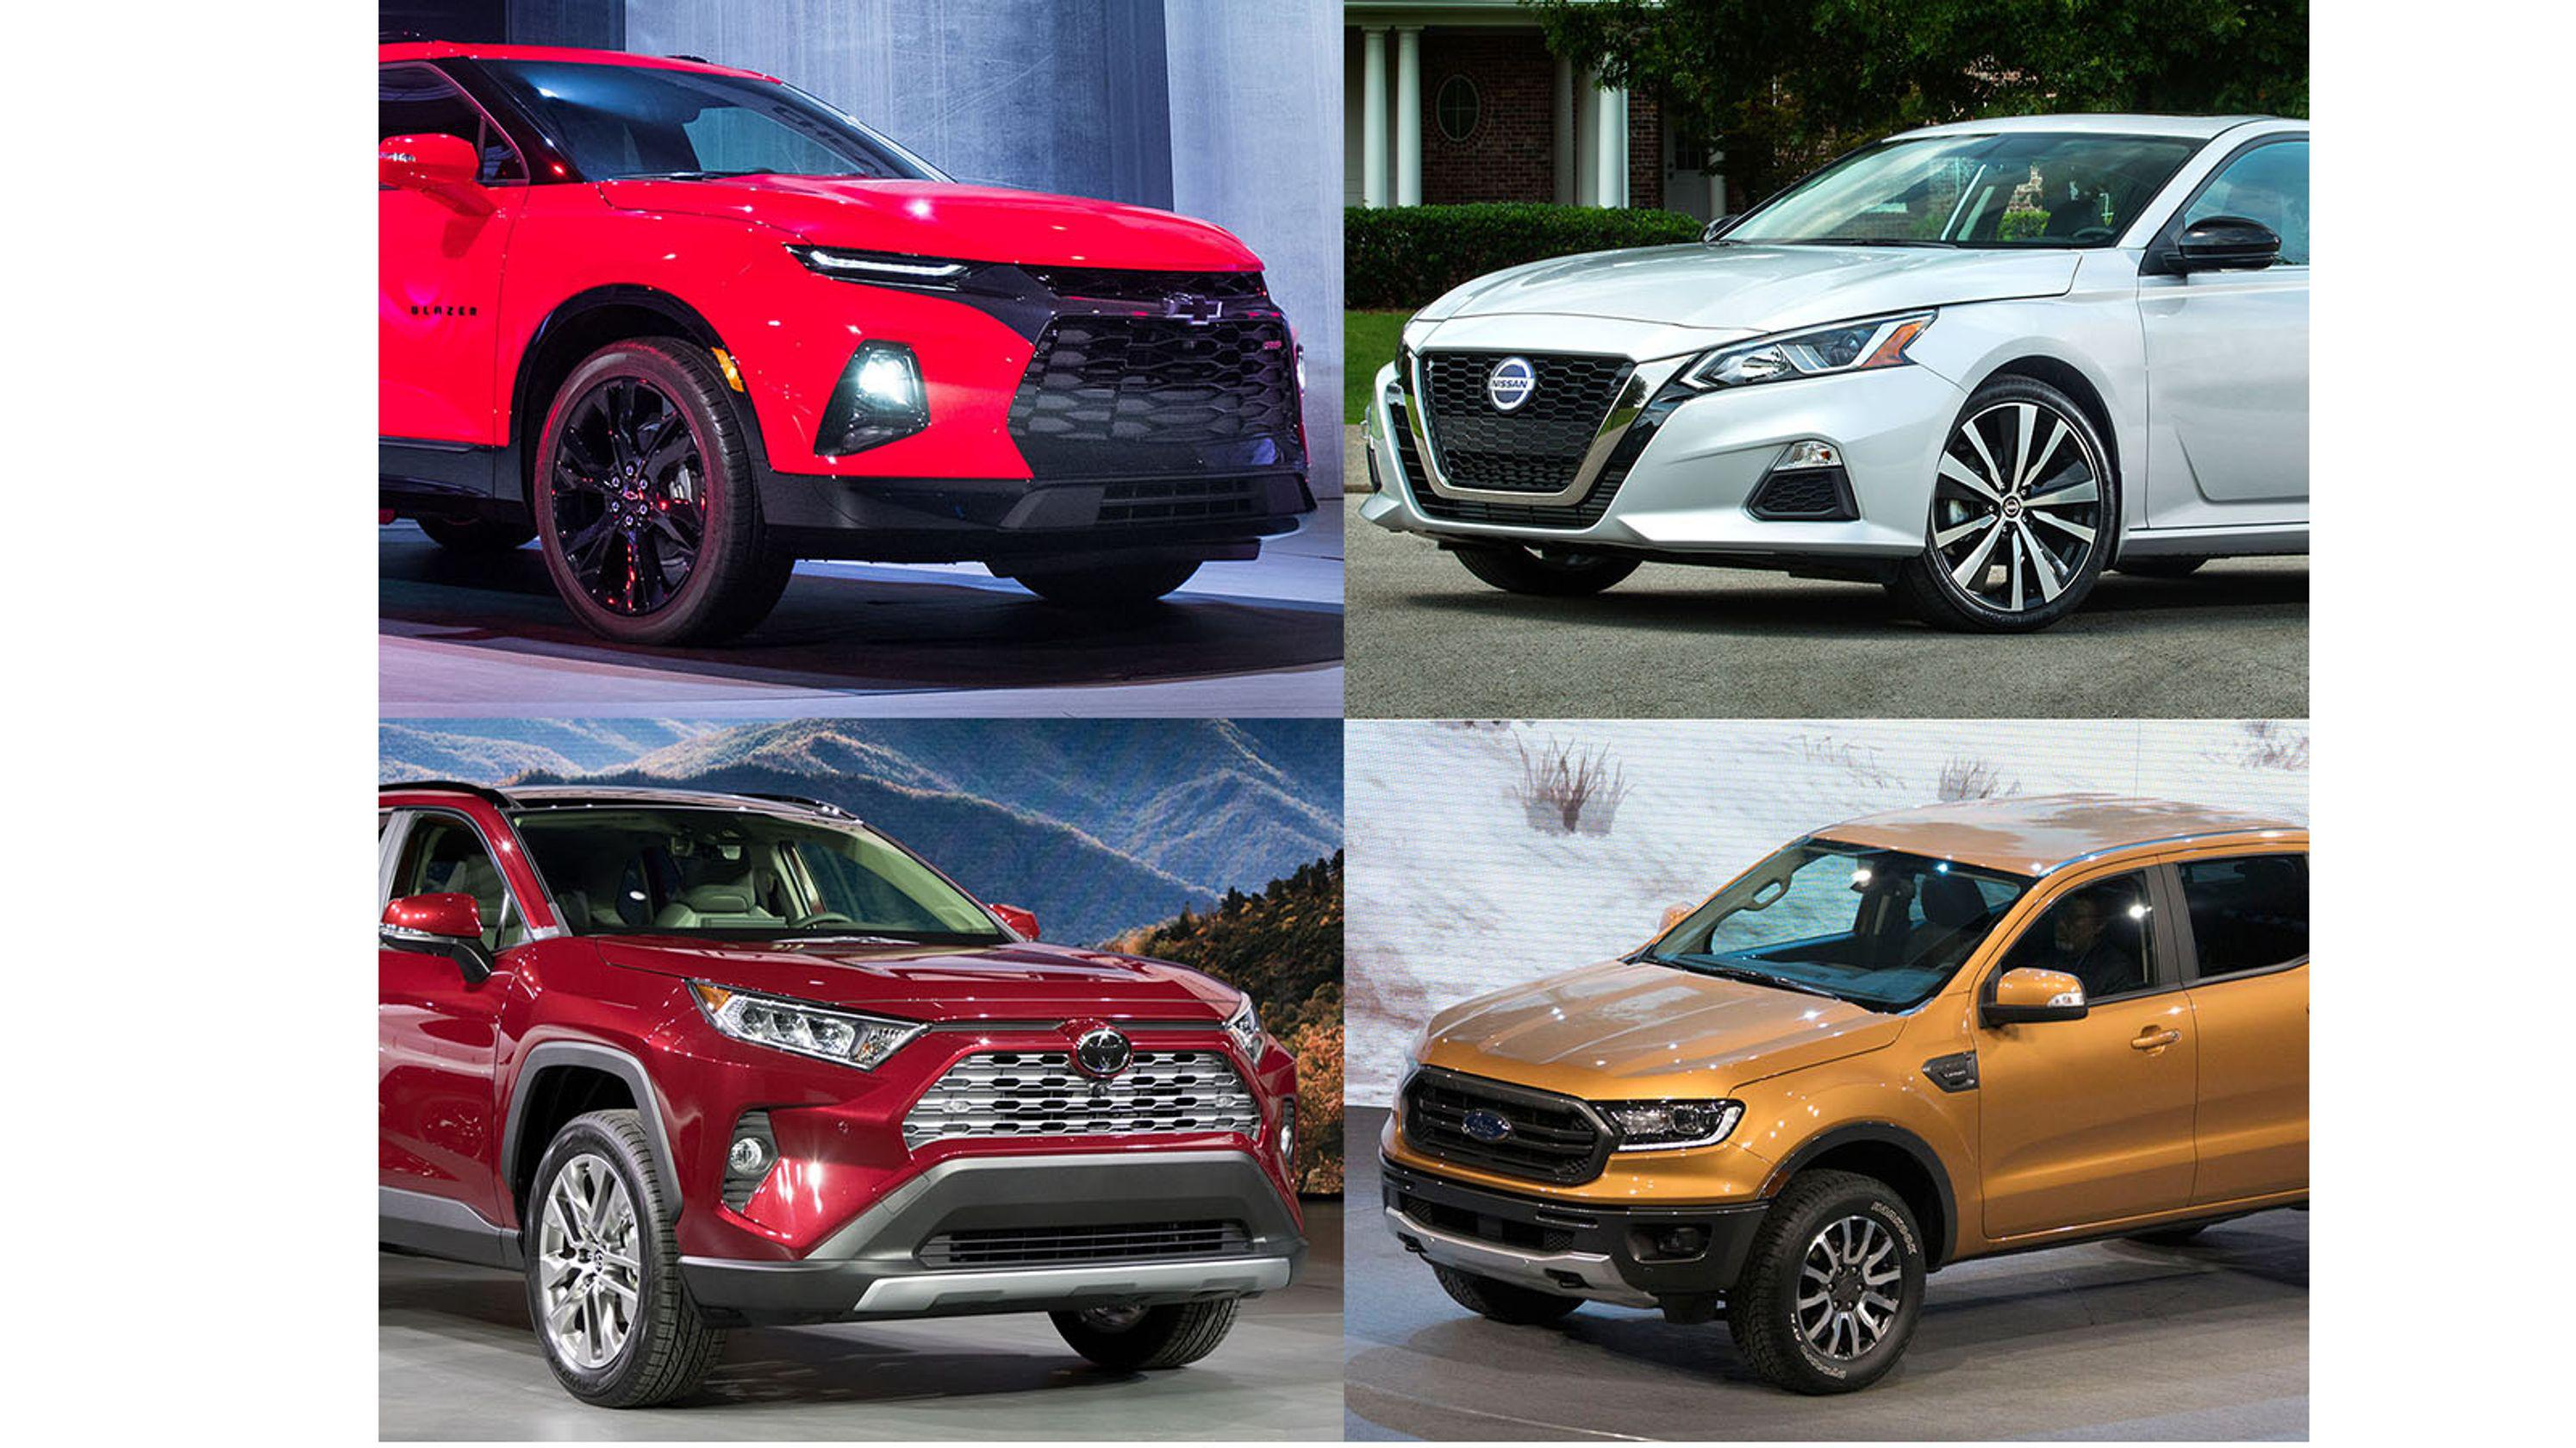car: (402, 34, 1322, 680), (400, 749, 1329, 1388), (1375, 770, 2289, 1402), (1353, 81, 2309, 664)
